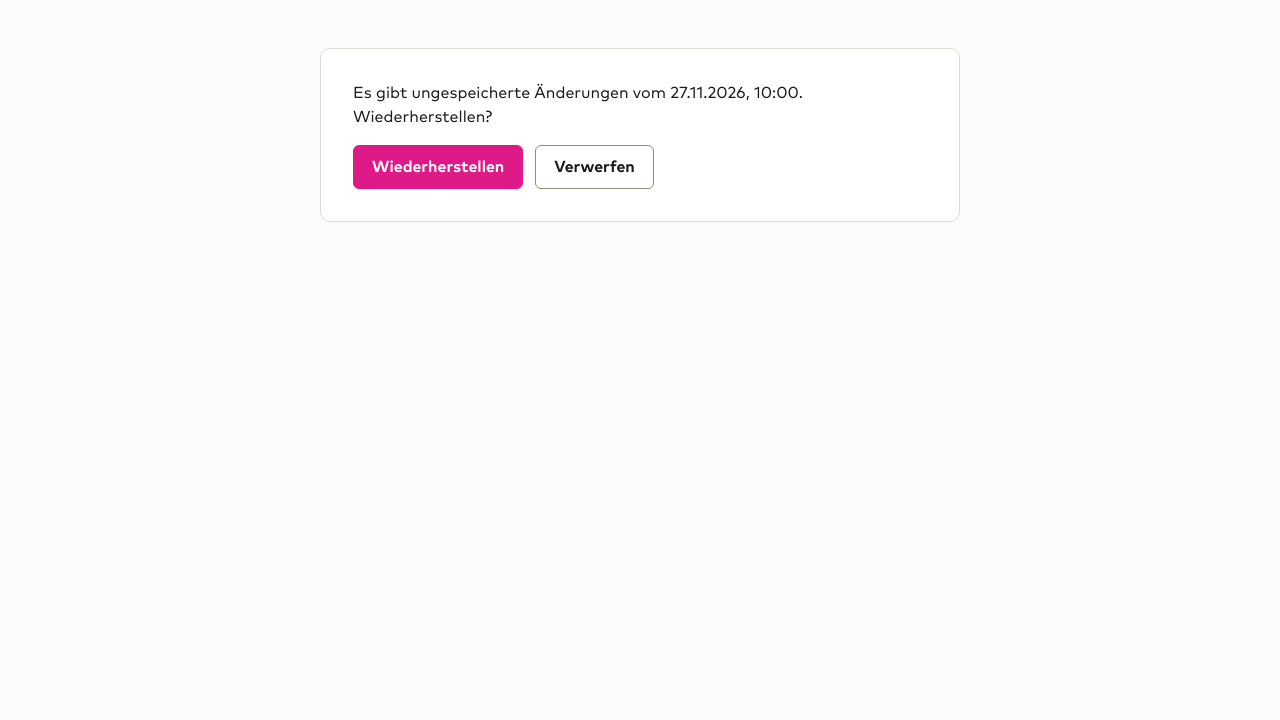
Scenario: SiteEditor speichern › bietet einen vorhandenen Entwurf zur Wiederherstellung an
This screenshot has width=1280, height=720.
Click the button "Wiederherstellen": (438, 167) [353, 145, 523, 189]
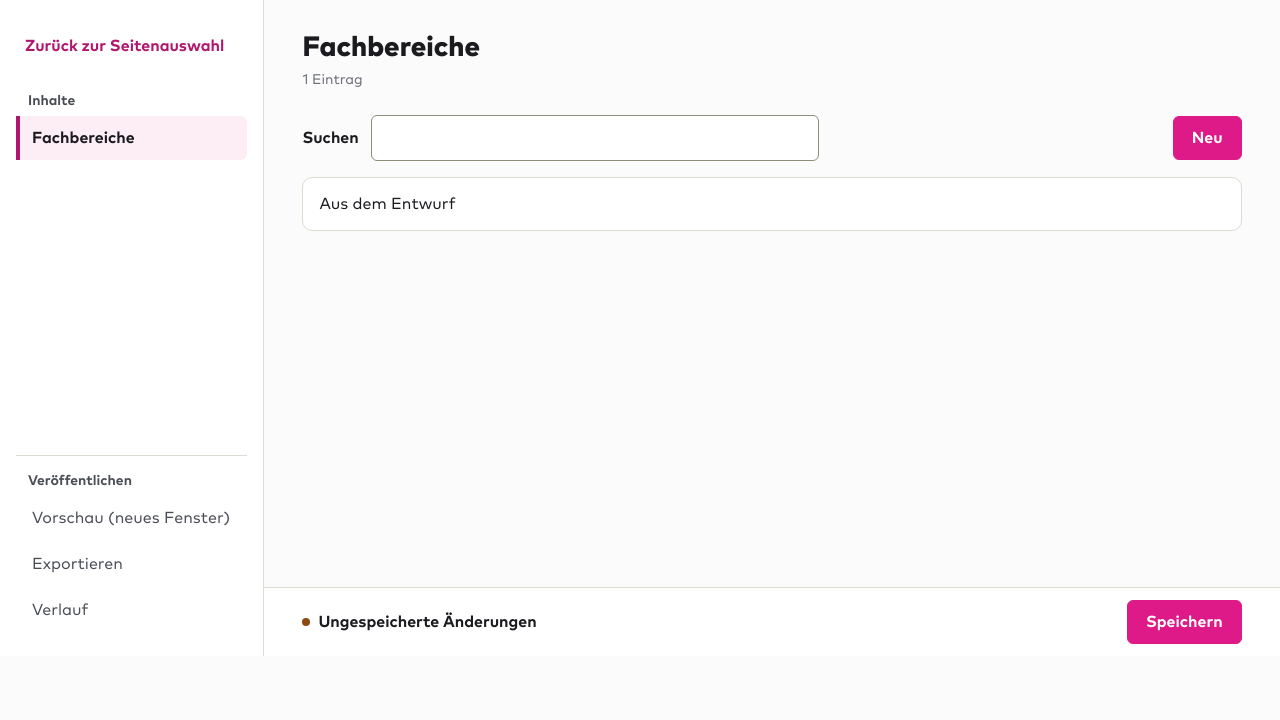
Check: the text "Ungespeicherte Änderungen" is shown, box [318, 614, 537, 630]
Check: the text "Aus dem Entwurf" is shown, box [319, 196, 456, 212]
